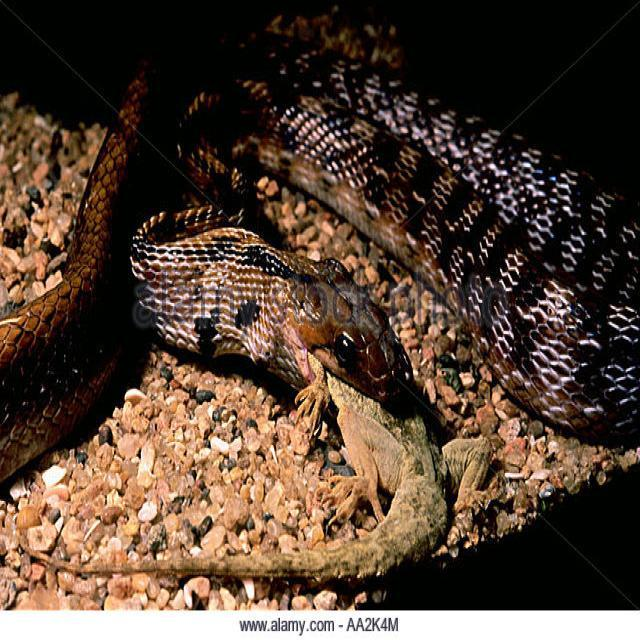Snake: (0, 23, 638, 449)
